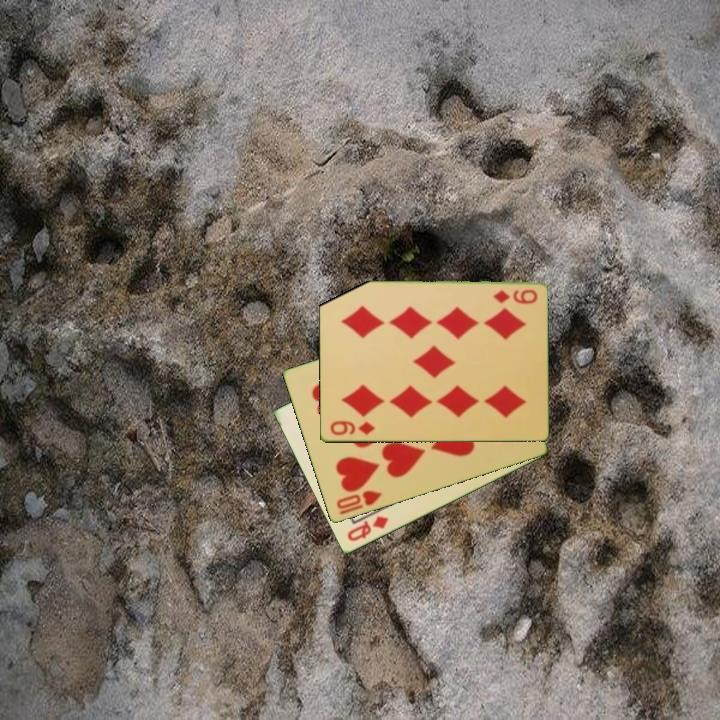10h: (333, 487, 384, 518)
9d: (489, 286, 540, 306), (327, 418, 377, 438)
Qd: (343, 513, 391, 545)
